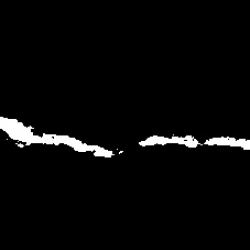crack: (1, 118, 114, 159), (140, 136, 199, 147), (209, 139, 248, 150), (13, 144, 25, 147), (121, 147, 124, 155)
